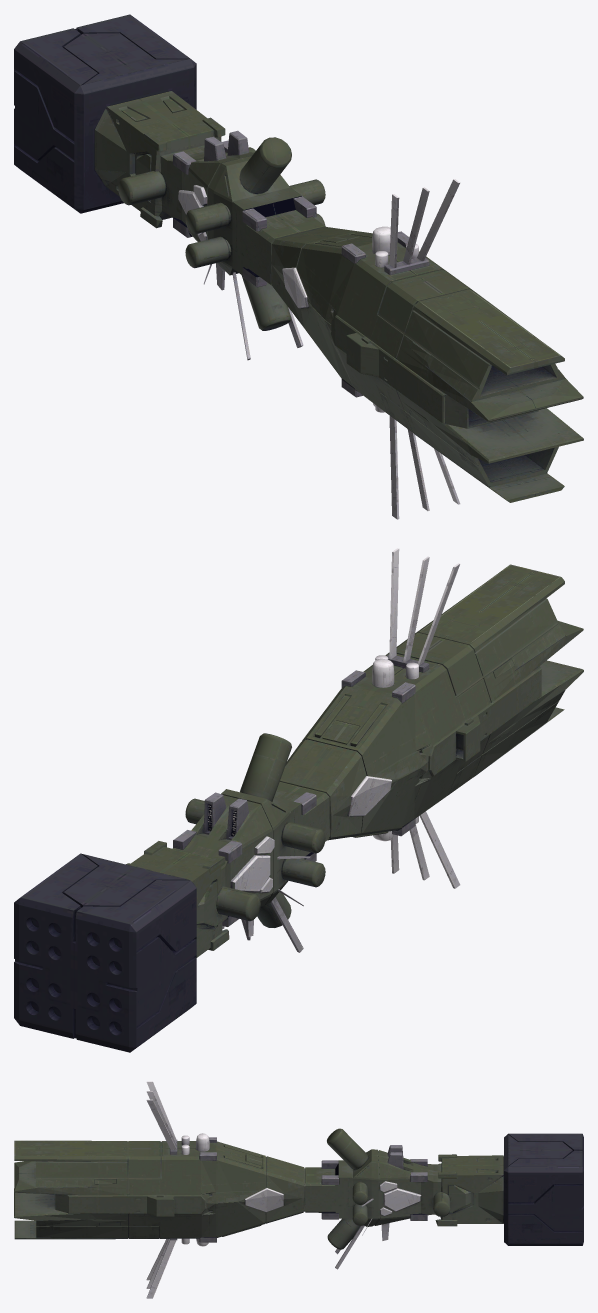
Rendered from tfpa_01_corvette.obj.
3 views of the same model, one above another, from view 1: azimuth 30°, elevation 25°; view 2: azimuth 150°, elevation 25°; view 3: azimuth 270°, elevation 25° (orthographic). The views are drawn at different scales.
Visible parts, largest first — view 1: jorodoxShape; view 2: jorodoxShape; view 3: jorodoxShape.
Boxes of the visible parts, x1,y1,x2,y2 form: jorodoxShape: (14, 14, 583, 519); jorodoxShape: (14, 548, 583, 1052); jorodoxShape: (14, 1081, 583, 1298).
Size of the model in its own units: 13.37 by 31.42 by 81.91.
